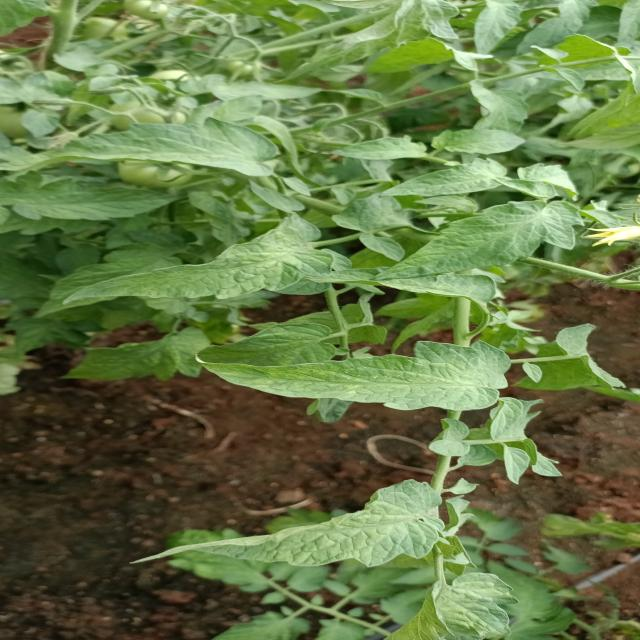Healthy Leaf: (41, 219, 327, 320), (180, 339, 512, 419), (389, 198, 581, 302)
